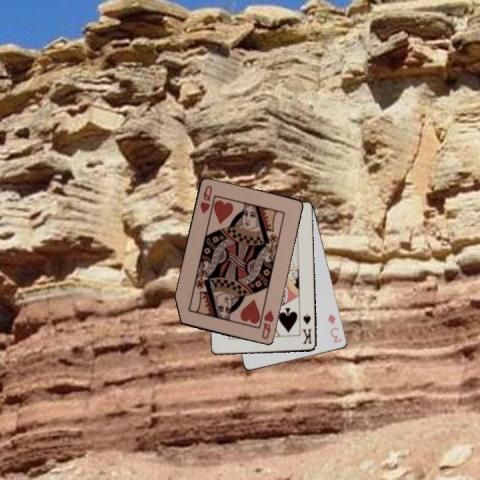3d: (326, 310, 344, 344)
Ks: (300, 312, 313, 346)
Qh: (259, 307, 276, 341), (198, 183, 214, 215)
